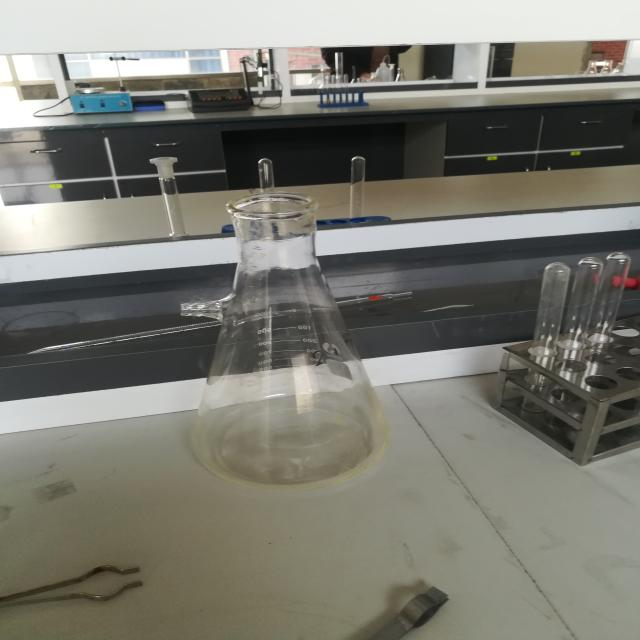Conical_Flask: (194, 153, 409, 508)
